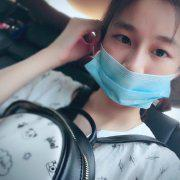WRONG: (95, 22, 179, 106)
